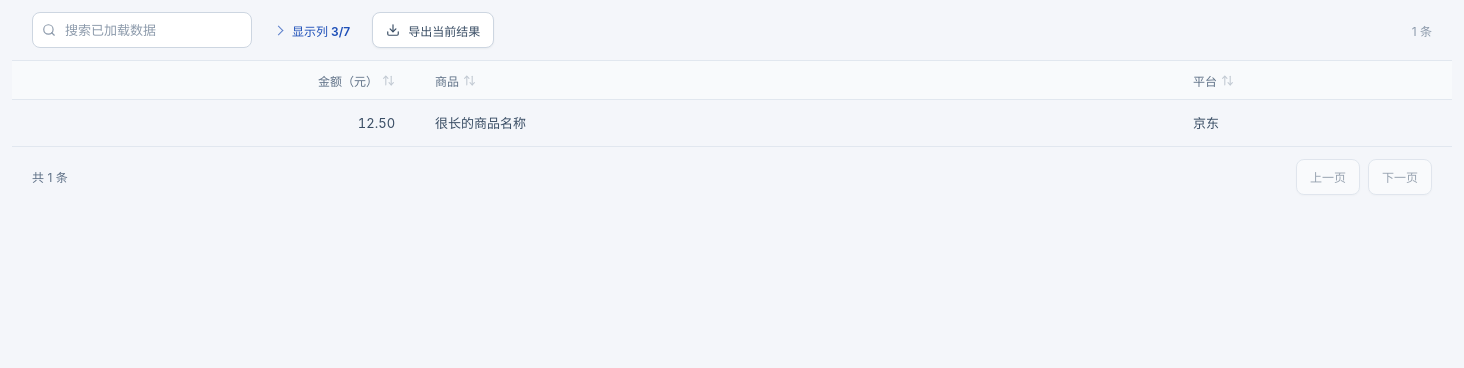
Test: readable and accurate data presentation › keeps identifiers intact, renders currency precision, and gives users control over detail columns
Expected: the text "京东" is shown, [1193,113,1219,134]
Expected: the text "12345" is not shown
Click the heading "显示列 3/7" at (312, 30), box [264,14,360,46]
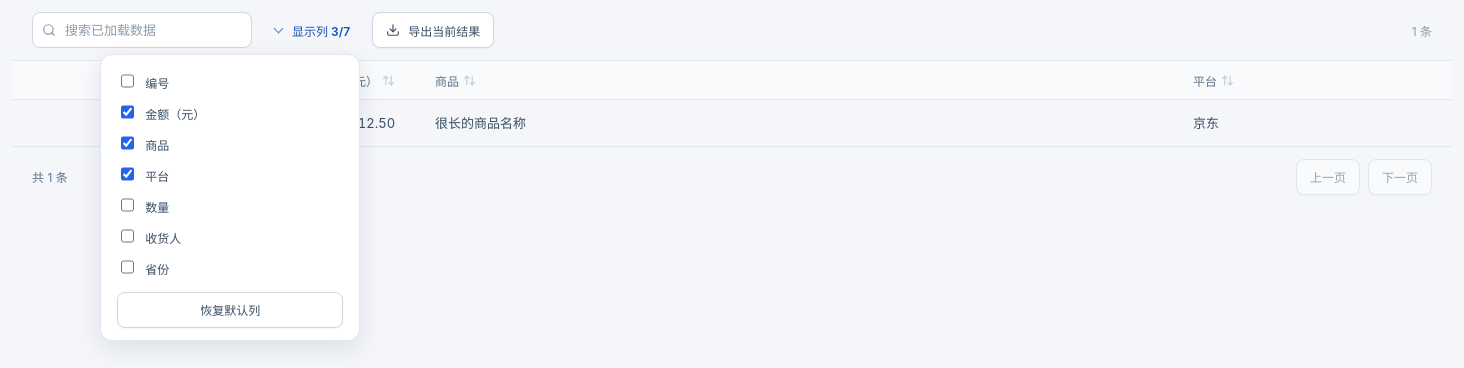
Click the checkbox labelled "编号" at (128, 80), box [121,72,134,88]
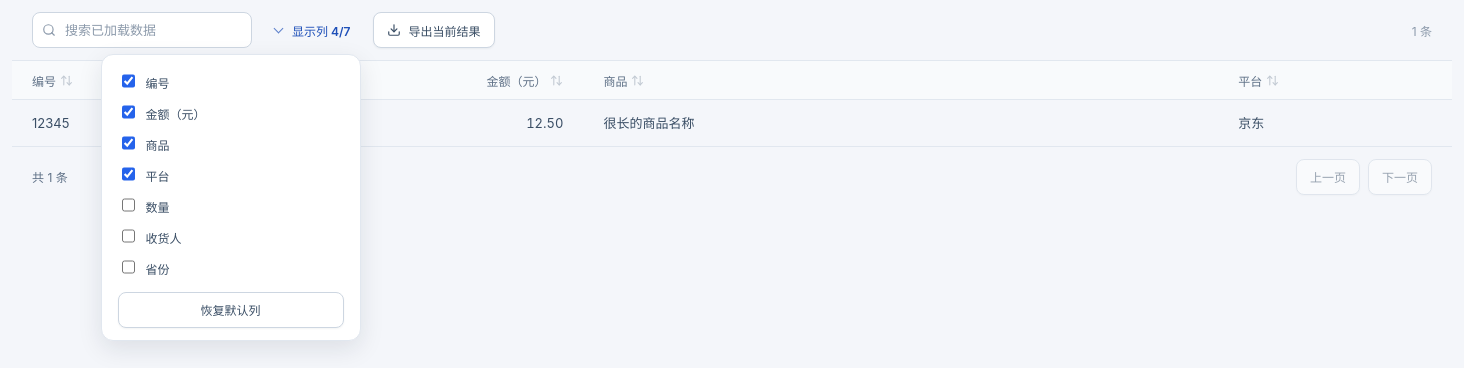
Expected: the text "12345" is shown, [32,113,69,134]
